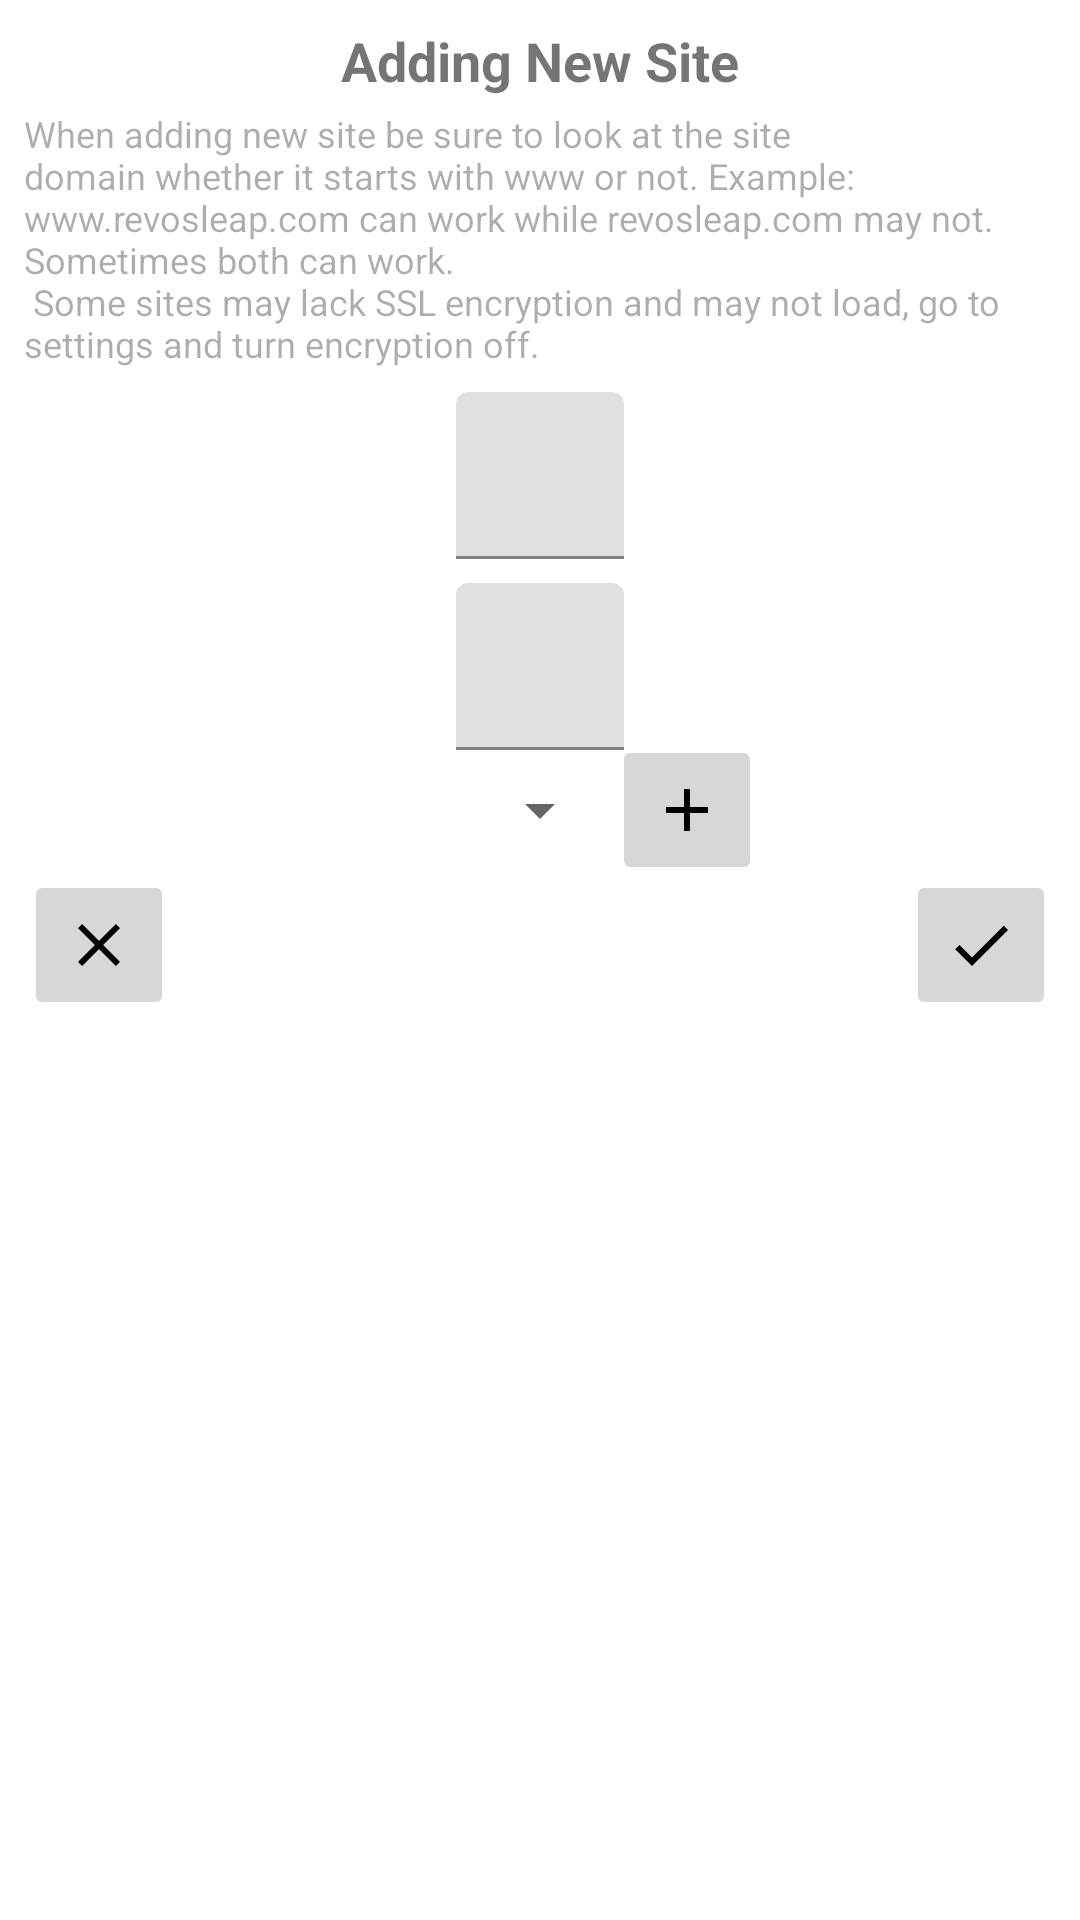

Where to tap for icons on this 1080x1920 app screen, as (x=x, y=y):
add: (x=687, y=810)
check: (x=981, y=945)
close: (x=99, y=945)
